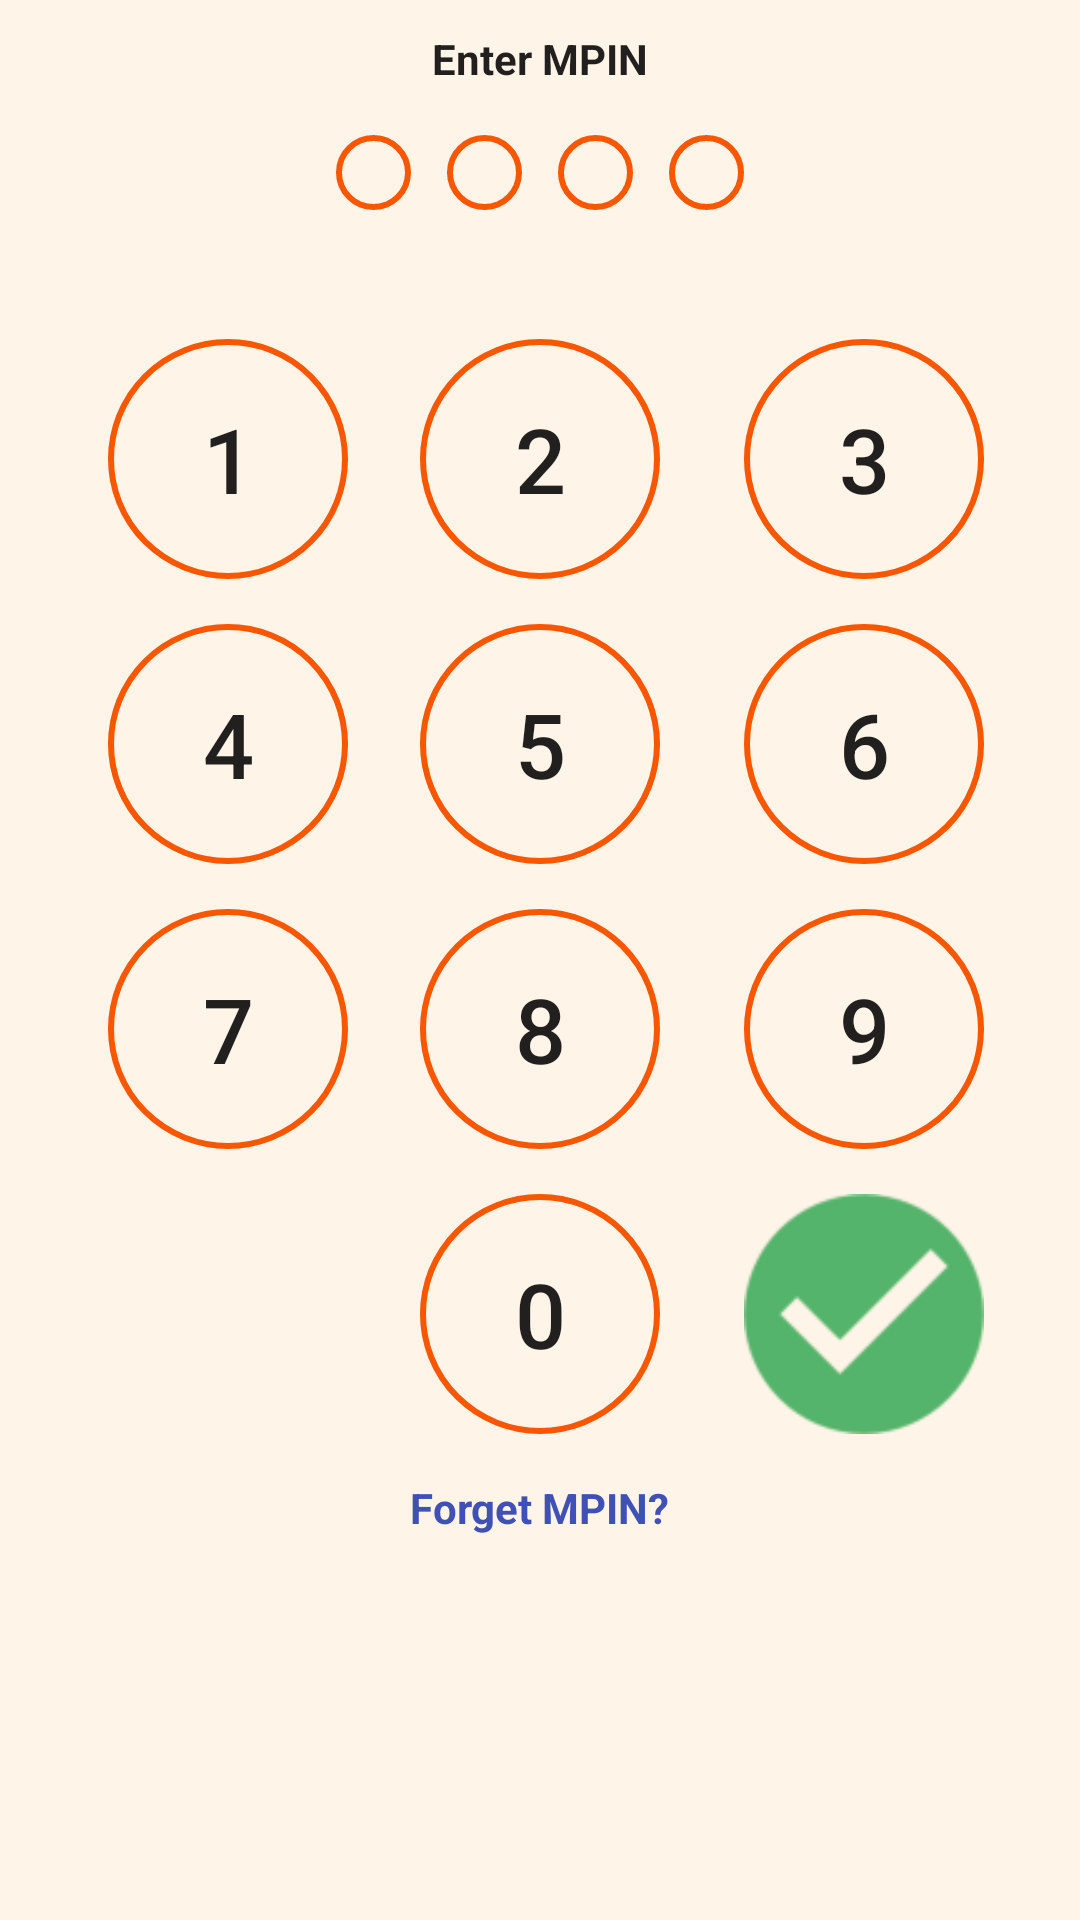

Where to tap for icons on this 1080x1920 app screen, as point (x, y):
check right: point (864, 1314)
